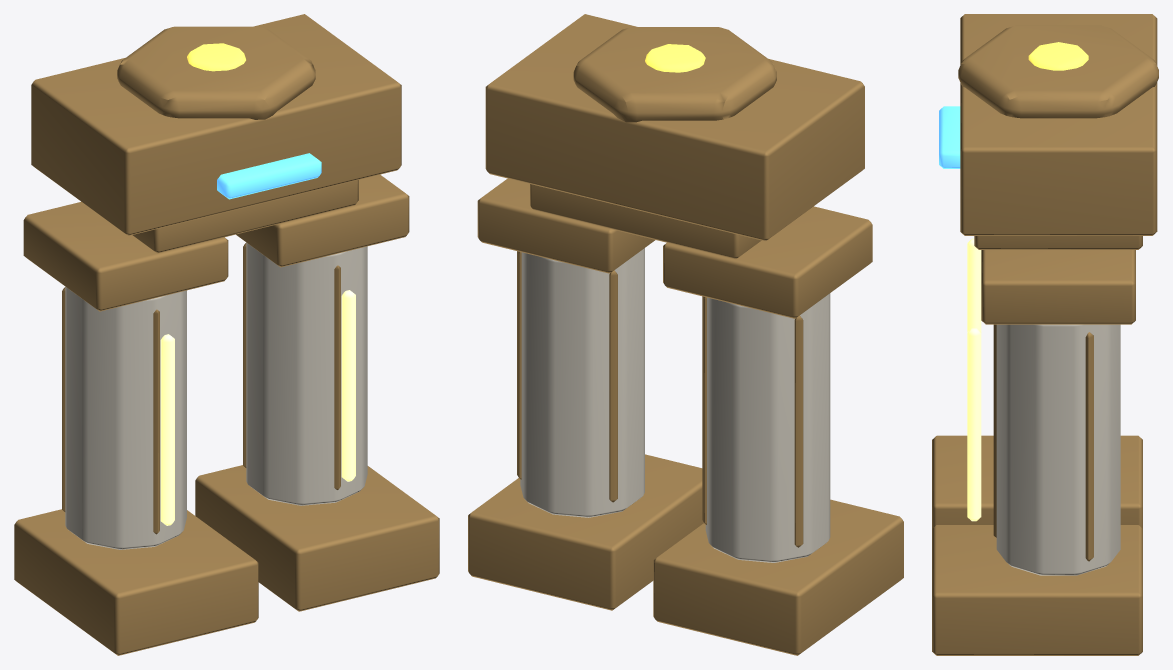
Rendered from sovereign_brass_legs_colonnade.glb.
3 views of the same model, side by side, from view 1: azimuth 30°, elevation 25°; view 2: azimuth 150°, elevation 25°; view 3: azimuth 270°, elevation 25° (orthographic). The views are drawn at different scales.
Visible parts, largest first — view 1: sovereign_brass_legs_colonnade; view 2: sovereign_brass_legs_colonnade; view 3: sovereign_brass_legs_colonnade.
Part boxes in pixels (bbox=[...]): sovereign_brass_legs_colonnade: bbox=[14, 14, 439, 655]; sovereign_brass_legs_colonnade: bbox=[468, 14, 903, 655]; sovereign_brass_legs_colonnade: bbox=[932, 14, 1158, 655].
Bounding box in the file's own units: 0.54 × 0.8225 × 0.3225.
1 material, 1 textured.
